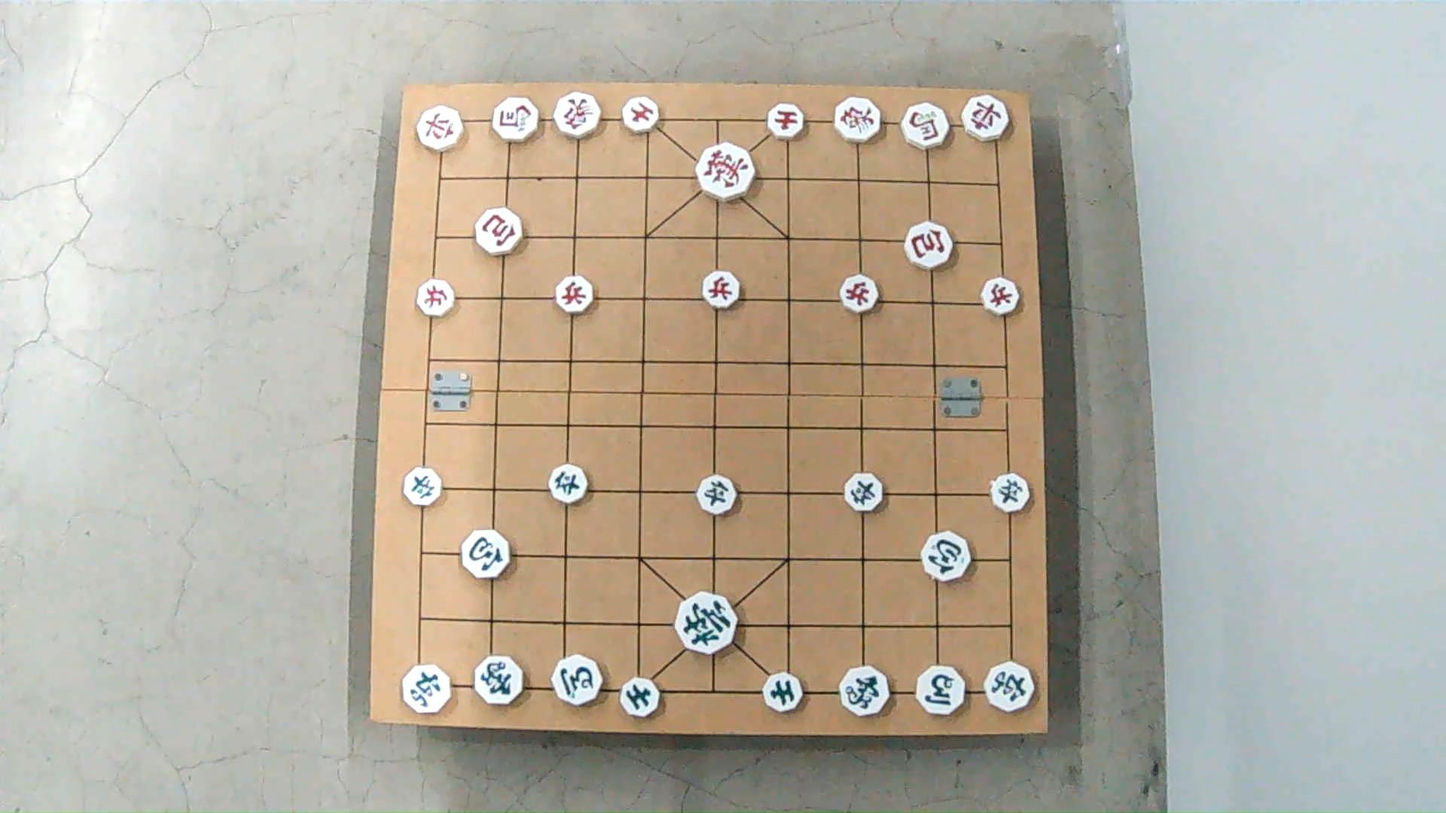cha_green: (981, 667, 1037, 714), (399, 666, 450, 713)
cha_red: (962, 99, 1014, 142), (414, 108, 467, 150)
jol_green: (988, 475, 1032, 510), (696, 477, 741, 511), (548, 469, 590, 505), (842, 474, 885, 509), (402, 472, 445, 507)
jol_red: (978, 280, 1020, 315), (842, 280, 884, 314), (551, 277, 594, 310), (413, 284, 456, 316), (701, 273, 741, 307)
ma_green: (549, 657, 604, 705), (918, 667, 971, 714)
ma_red: (898, 107, 951, 149), (493, 101, 544, 143)
po_green: (920, 536, 974, 581), (461, 532, 514, 577)
po_red: (902, 224, 955, 267), (475, 211, 524, 253)
sa_green: (761, 677, 805, 714), (619, 678, 661, 716)
sa_red: (622, 99, 664, 132), (767, 105, 808, 137)
sang_green: (471, 658, 523, 706), (837, 669, 890, 714)
sang_red: (551, 96, 602, 140), (830, 101, 882, 143)
wang_green: (673, 597, 738, 653)
wang_red: (697, 145, 756, 197)
